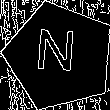N_S: (37, 29, 82, 83)
